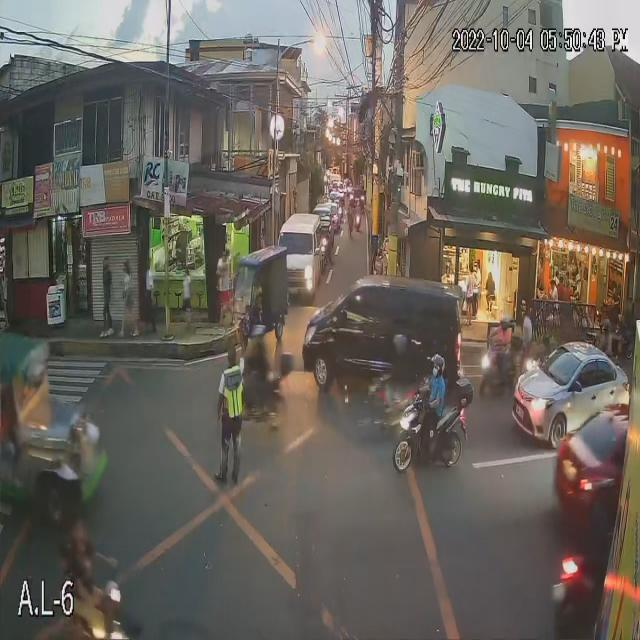helmet: (423, 356, 453, 386), (250, 326, 266, 347), (543, 312, 561, 330), (496, 314, 514, 331), (392, 335, 408, 354), (600, 317, 614, 333)
motorcycle: (385, 399, 475, 482), (48, 579, 136, 640), (214, 370, 294, 424), (367, 381, 427, 431), (522, 353, 578, 393), (475, 352, 519, 398)
rider: (63, 548, 109, 622), (410, 375, 454, 450), (387, 352, 414, 396), (250, 346, 272, 390), (492, 328, 512, 367), (539, 329, 561, 358), (599, 334, 615, 361)
